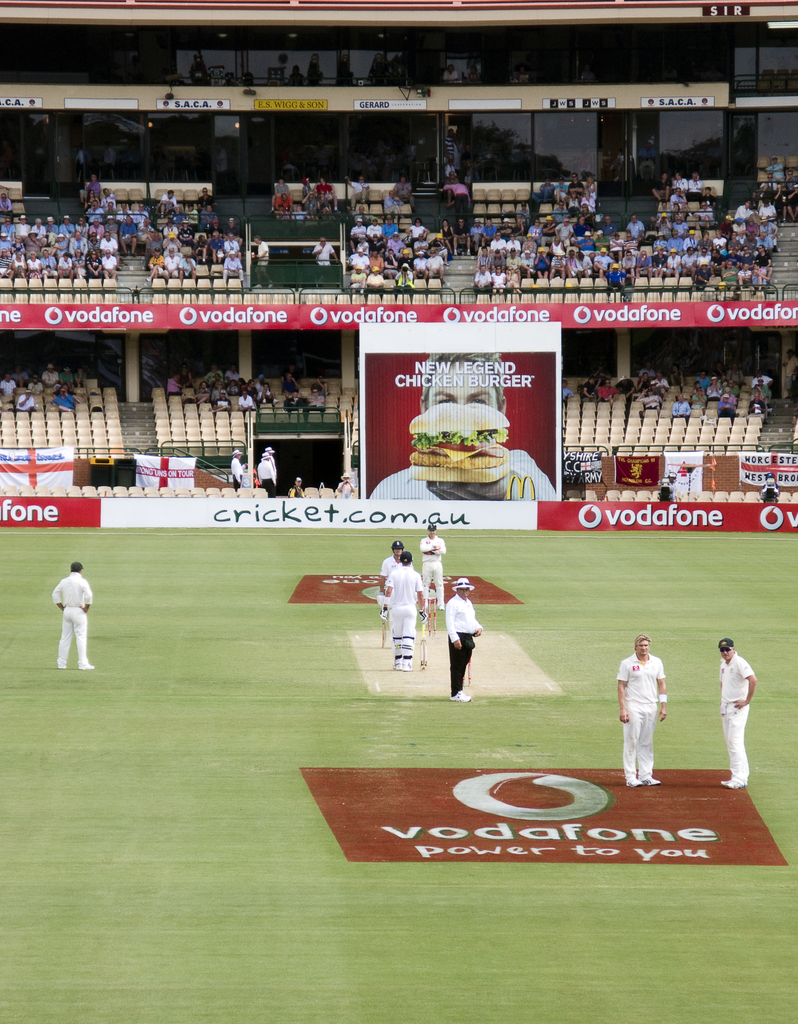Person: (471, 154, 798, 290), (0, 174, 270, 287), (579, 361, 767, 419), (168, 362, 328, 413), (349, 215, 449, 291), (615, 632, 665, 784), (444, 576, 483, 702), (383, 552, 424, 669), (0, 364, 89, 416), (267, 175, 338, 223), (417, 523, 446, 609), (377, 536, 414, 590), (342, 176, 373, 209), (781, 346, 797, 398), (445, 181, 468, 216), (256, 455, 275, 497), (388, 179, 414, 208), (314, 237, 338, 267), (384, 187, 401, 223), (231, 451, 245, 492), (335, 473, 353, 498), (354, 201, 372, 226), (264, 445, 276, 482), (287, 476, 306, 496), (561, 378, 571, 399)
